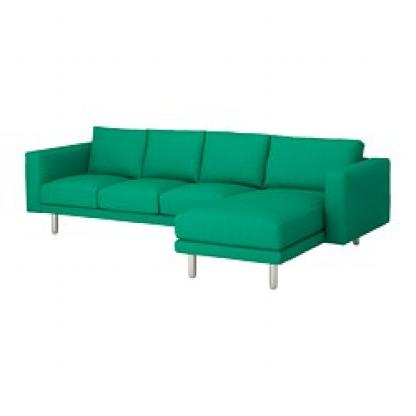Sofa: (18, 110, 393, 294)
